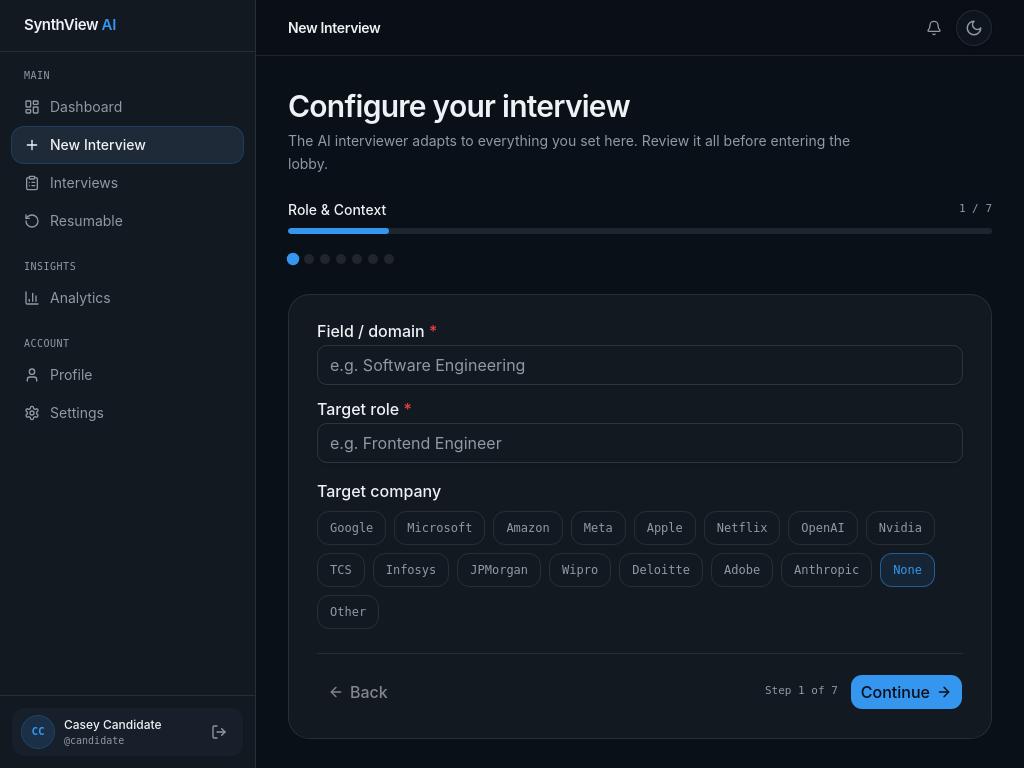
Test: New Interview wizard saved defaults › pre-fills every repeated field from the saved preferences
Expected: the field labelled "Target role *" is empty, [317,422,963,462]
Type "Backend" into the field labelled "Field / domain *" at x=640, y=364, box [317,344,963,384]
Type "Backend Engineer" into the field labelled "Target role *" at x=640, y=442, box [317,422,963,462]
Click the button "Continue" at x=906, y=692, box [850,674,963,710]
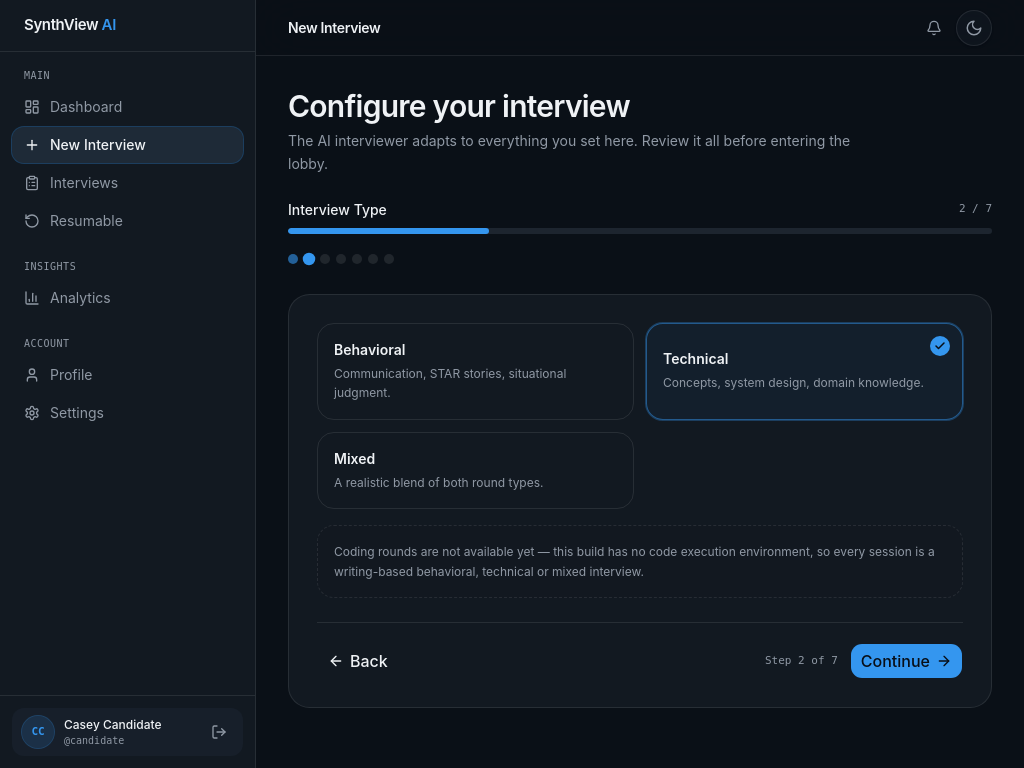
Click the button "Continue" at x=906, y=661, box [850,643,963,679]
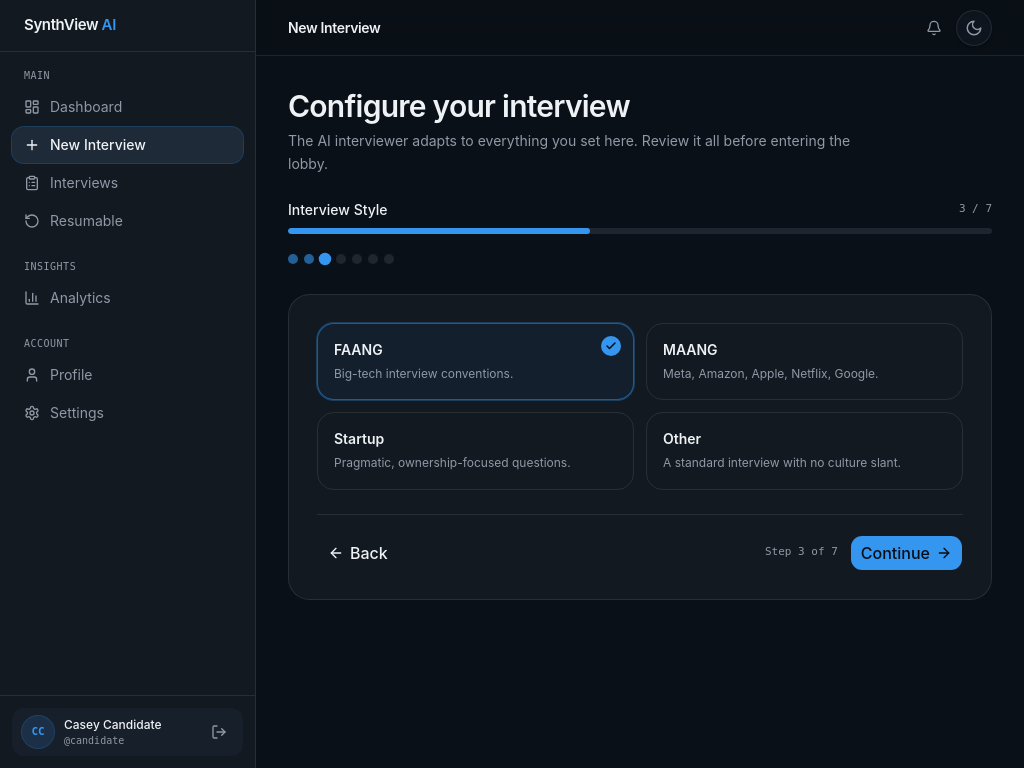
Click the button "Continue" at x=906, y=552, box [850,534,963,570]
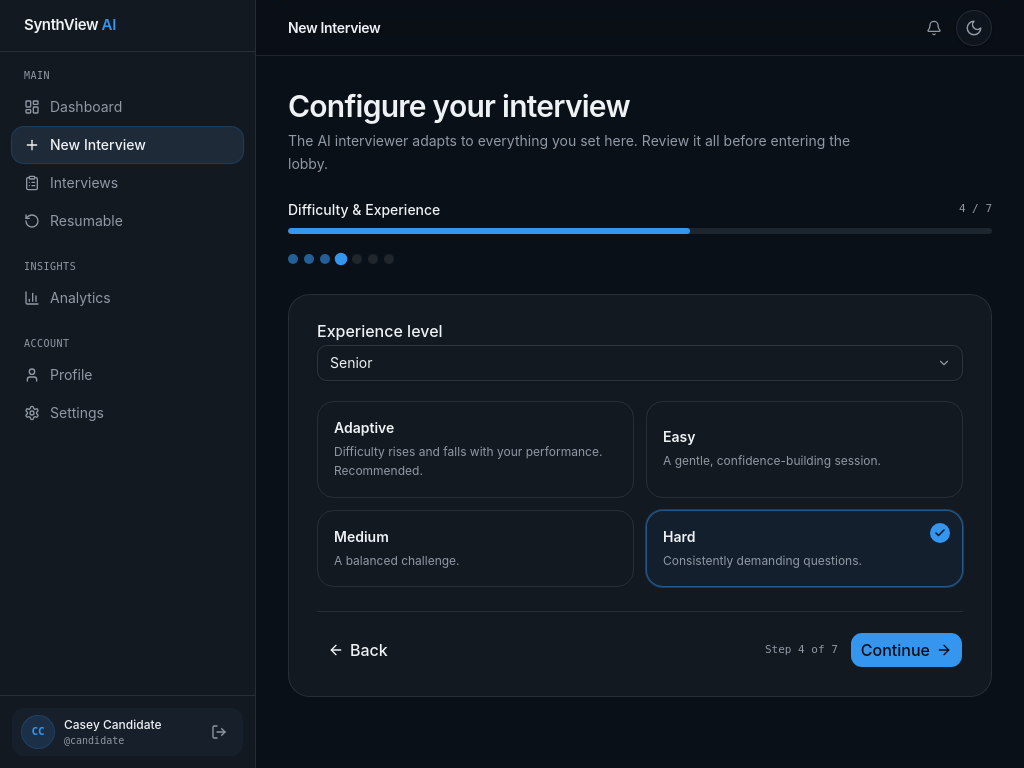
Expected: the dropdown labelled "Experience level" shows "Senior", [317,344,963,380]
Click the button "Continue" at x=906, y=650, box [850,632,963,668]
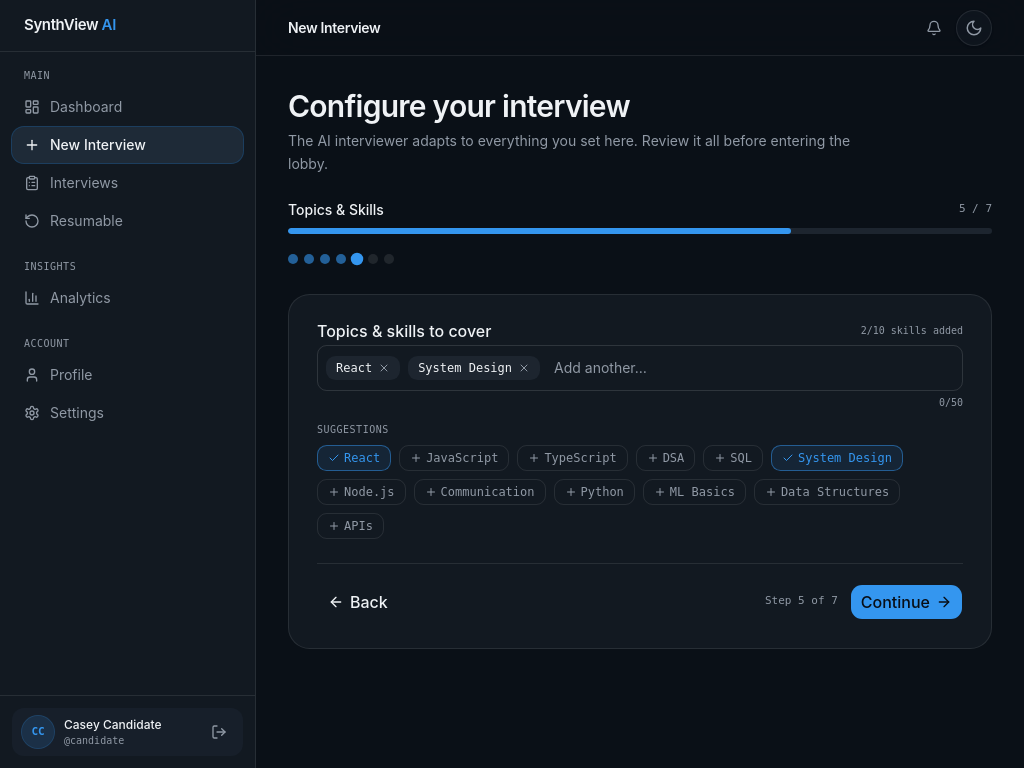
Expected: the button named "Remove System Design" is shown, [518,362,530,374]
Expected: the button named "Remove React" is shown, [378,362,390,374]
Expected: the text "2/10 skills added" is shown, [861,323,963,338]
Click the button "Continue" at x=906, y=602, box [850,584,963,620]
(page scrolled)
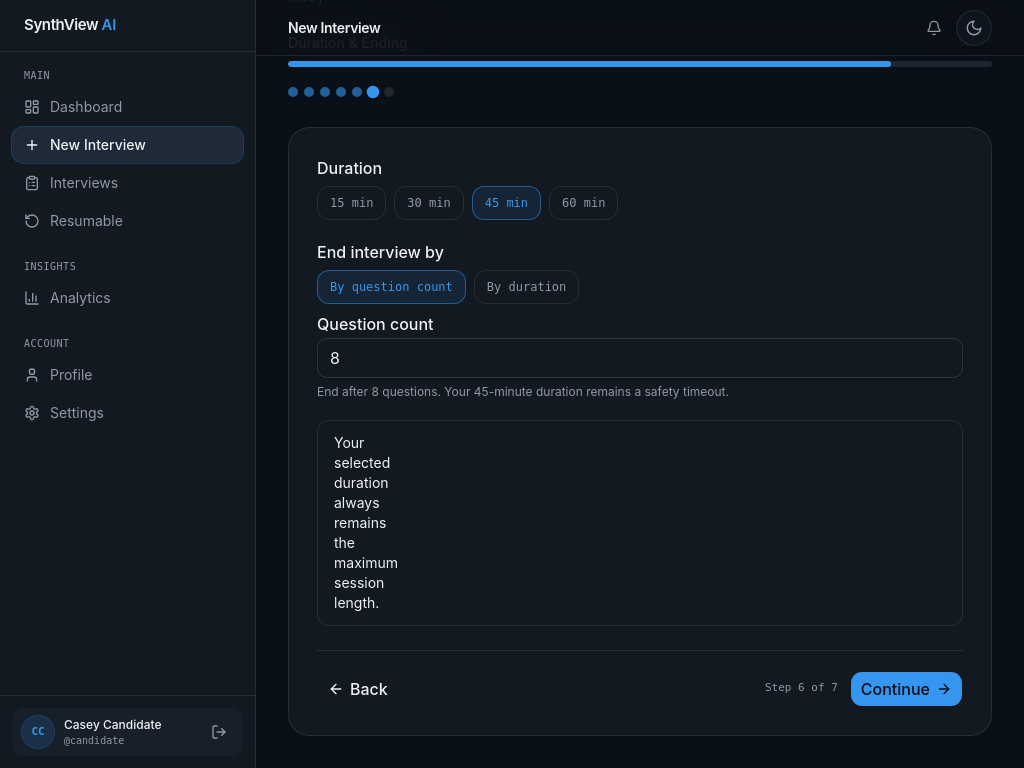
Expected: the number field labelled "Question count" holds "8", [317,338,963,378]
Click the button "Continue" at x=906, y=688, box [850,670,963,706]
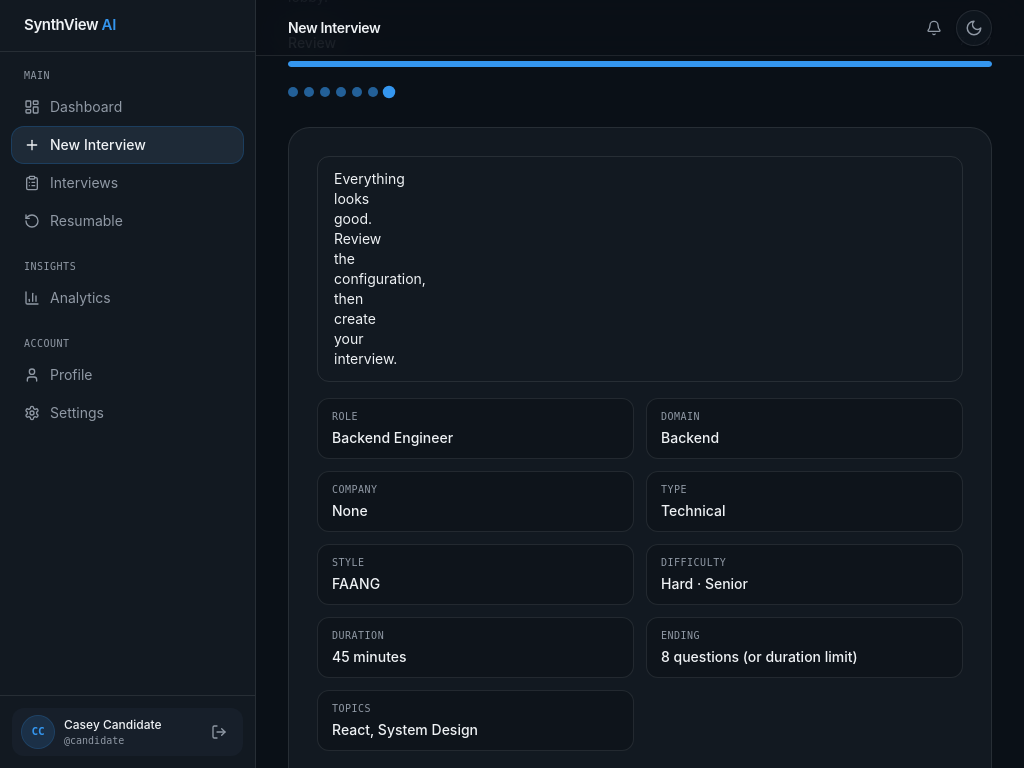
Expected: the text "Hard · Senior" is shown, [661,574,748,592]
Expected: the text "Technical" is shown, [661,502,725,518]
Expected: the text "45 minutes" is shown, [332,648,407,664]
